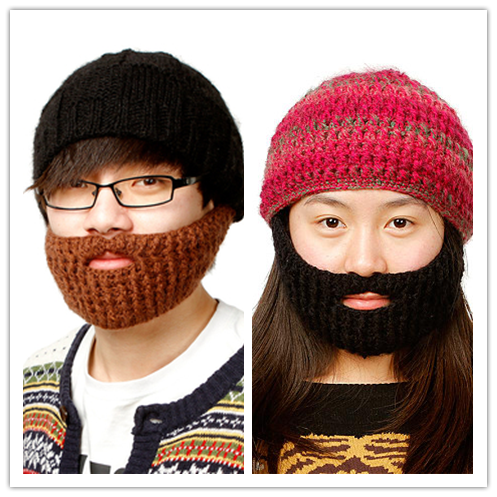face_mask: (46, 126, 196, 327), (291, 159, 443, 354)
